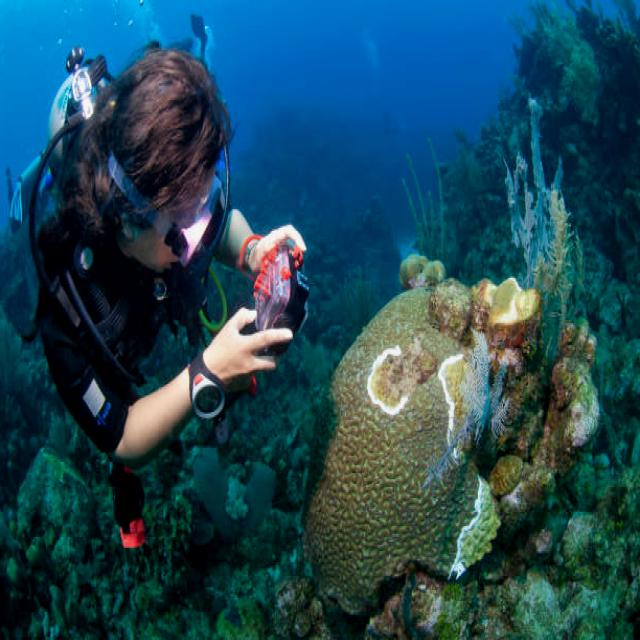Coral: (300, 276, 600, 617)
